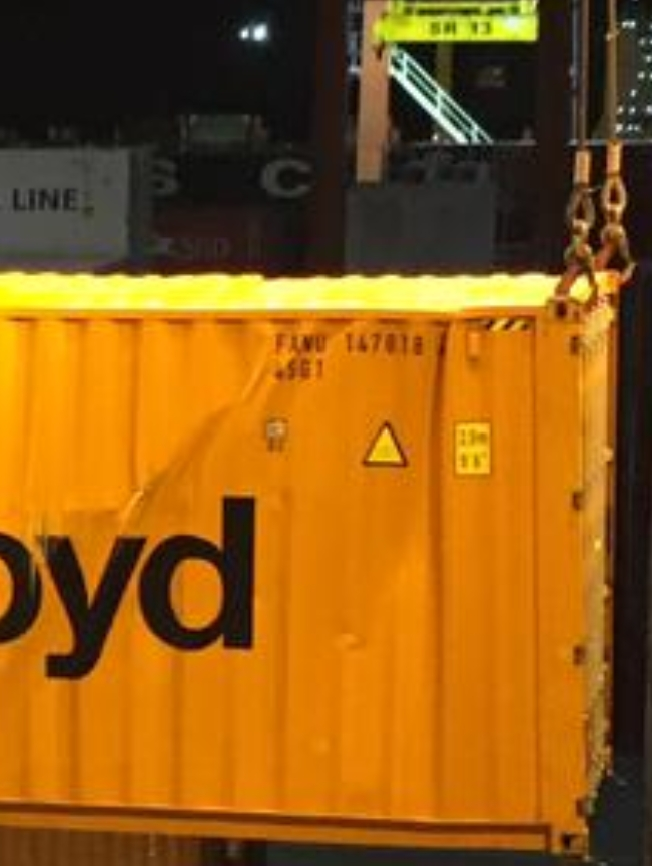bulged: (46, 322, 387, 565)
